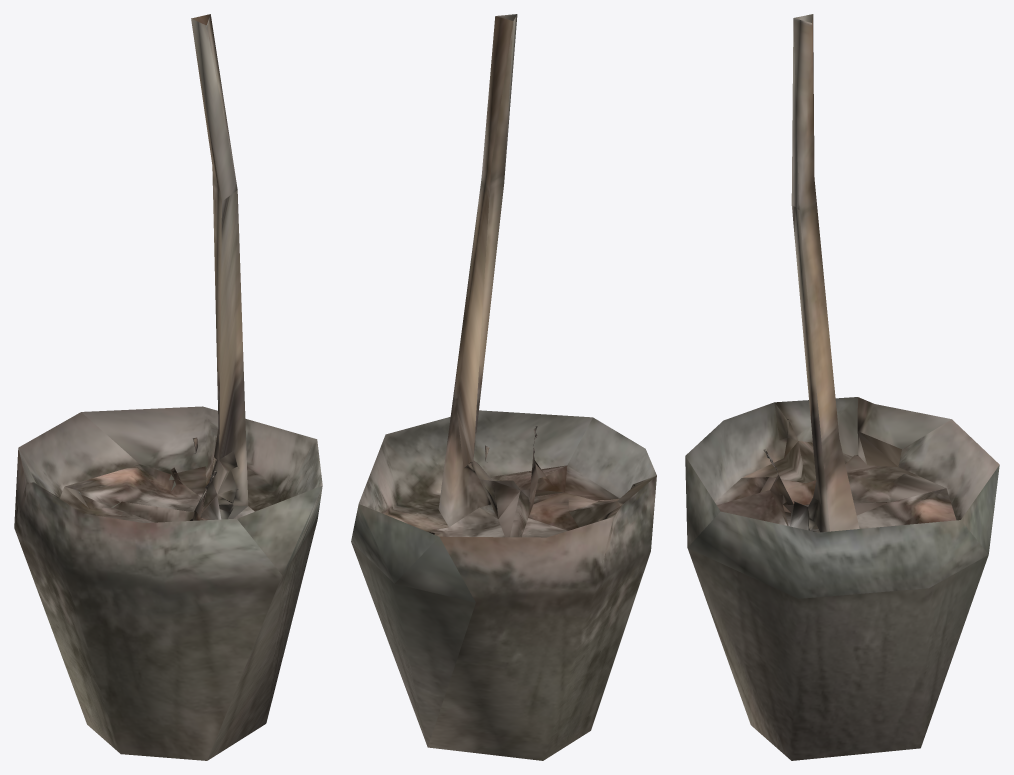
The model's file is 3DModel_Custom.002.fbx.
3 views of the same model, side by side, from view 1: azimuth 30°, elevation 25°; view 2: azimuth 150°, elevation 25°; view 3: azimuth 270°, elevation 25° (orthographic). The views are drawn at different scales.
Visible parts, largest first — view 1: 3DModel_Custom.002; view 2: 3DModel_Custom.002; view 3: 3DModel_Custom.002.
Part boxes in pixels (box(x1,y1,x2,y2)): 3DModel_Custom.002: box(14, 14, 322, 760); 3DModel_Custom.002: box(351, 14, 656, 760); 3DModel_Custom.002: box(685, 14, 999, 760).
Bounding box in the file's own units: 31.8 × 82.69 × 32.77.
1 material, 1 textured.
